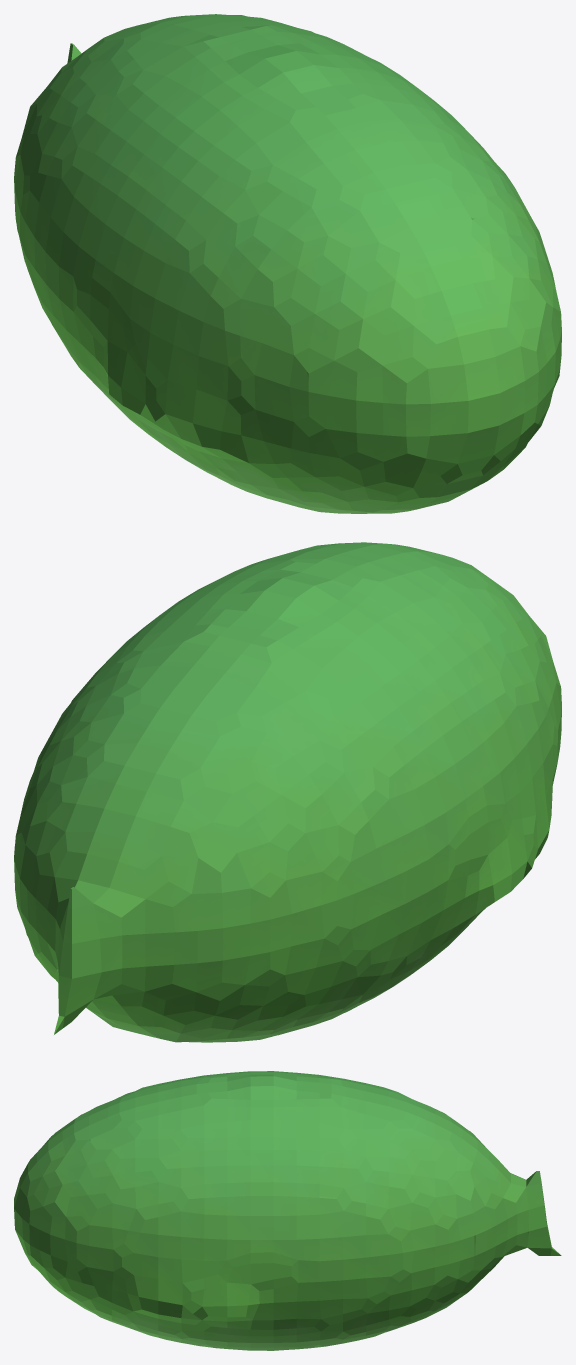
Rendered from shark.glb.
3 renders of one model, top to bottom at view 1: azimuth 30°, elevation 25°; view 2: azimuth 150°, elevation 25°; view 3: azimuth 270°, elevation 25°, orthographic. The views are drawn at different scales.
Visible parts, largest first — view 1: geometry_0; view 2: geometry_0; view 3: geometry_0.
Boxes of the visible parts, x1=… form: geometry_0: x1=14, y1=14, x2=561, y2=513; geometry_0: x1=14, y1=542, x2=561, y2=1042; geometry_0: x1=14, y1=1071, x2=561, y2=1350.
Size of the model in its own units: 0.8522 by 0.8387 by 1.63.
1 material, 1 textured.
